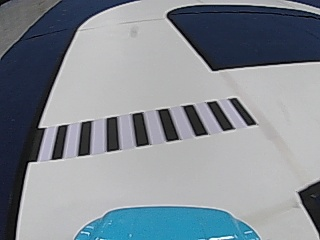CrossWalk: (39, 97, 254, 162)
